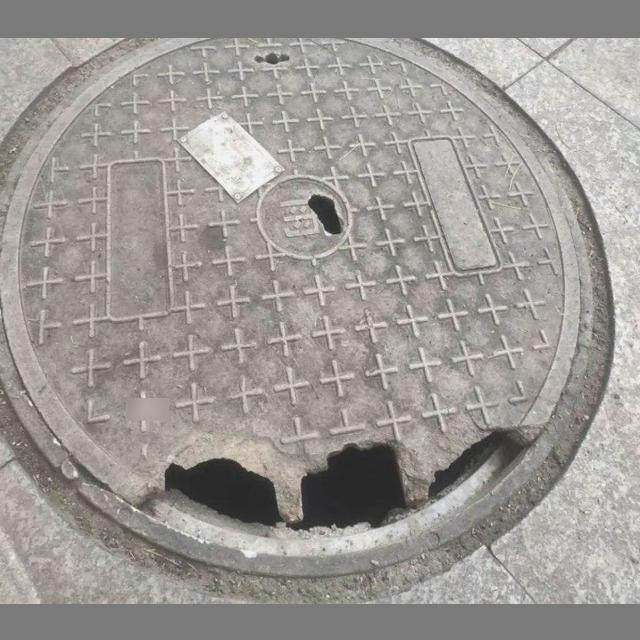broke: (0, 39, 593, 581)
